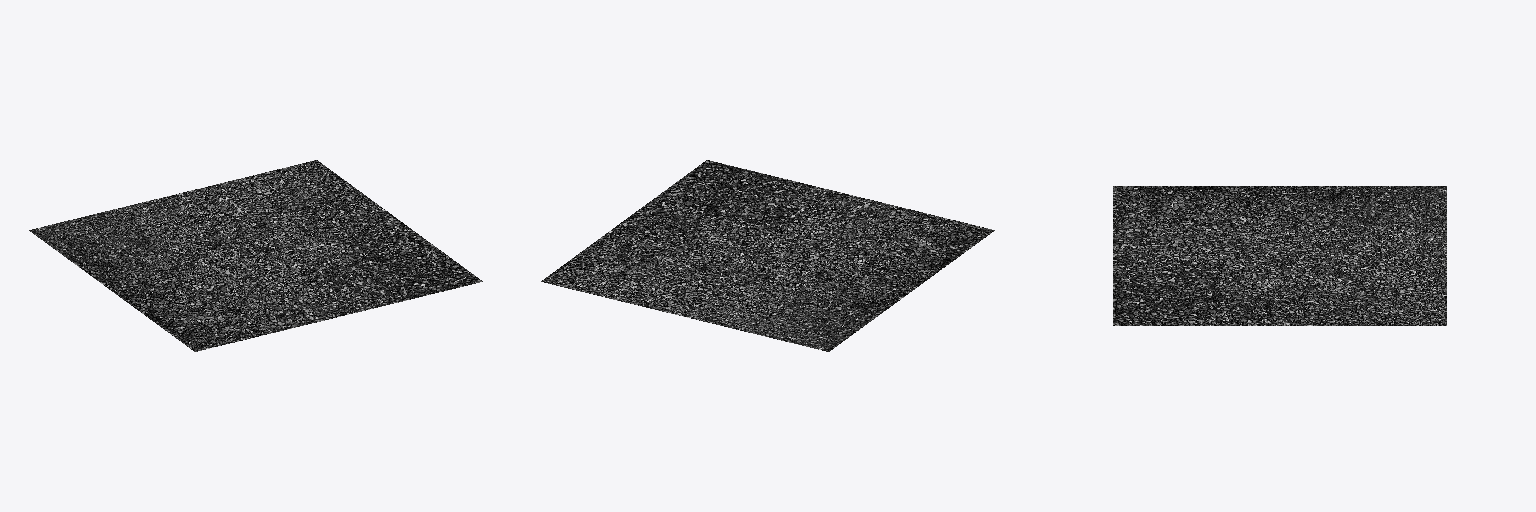
3 renders of one model, left to right at view 1: azimuth 30°, elevation 25°; view 2: azimuth 150°, elevation 25°; view 3: azimuth 270°, elevation 25°, orthographic.
Parts seen in each view (by area): view 1: Plane; view 2: Plane; view 3: Plane.
Part boxes in pixels (x1,y1,x2,y2): Plane: (29, 160, 482, 351); Plane: (541, 160, 994, 351); Plane: (1113, 186, 1446, 325).
Bounding box in the file's own units: 9.75 × 0 × 9.75.
Materials: 1 (1 with a texture image).